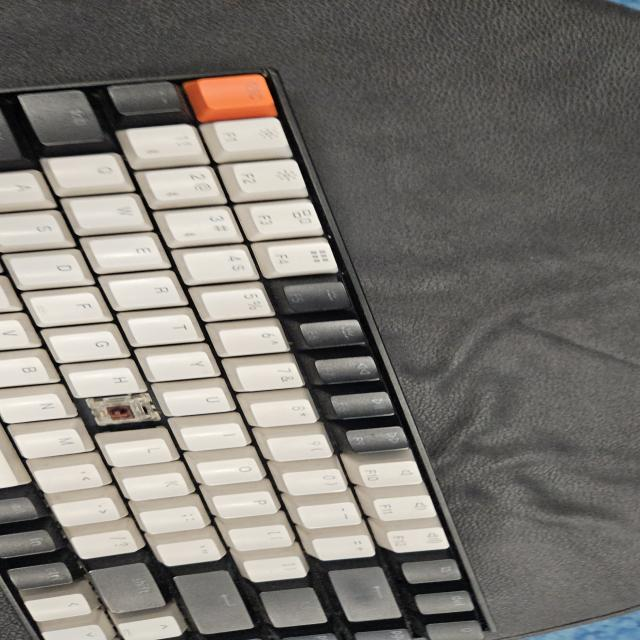C: (94, 398, 148, 428)
